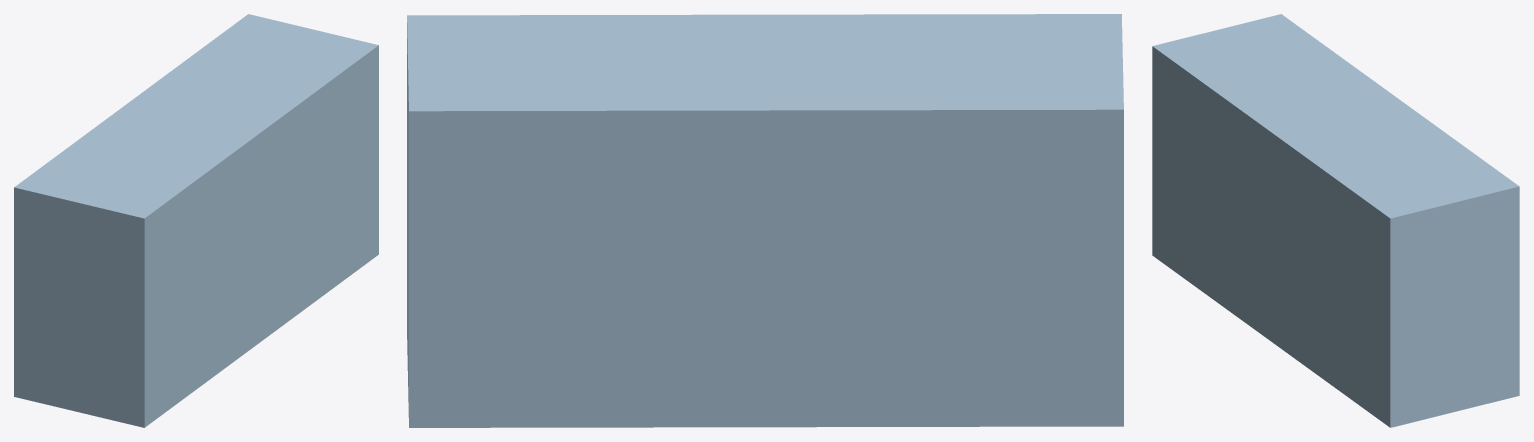
Rendered from osm_way_225265351.glb.
3 renders of one model, left to right at view 1: azimuth 30°, elevation 25°; view 2: azimuth 150°, elevation 25°; view 3: azimuth 270°, elevation 25°, orthographic. The views are drawn at different scales.
Parts seen in each view (by area): view 1: osm_way_225265351; view 2: osm_way_225265351; view 3: osm_way_225265351.
Boxes of the visible parts, x1=… form: osm_way_225265351: x1=14, y1=14, x2=378, y2=427; osm_way_225265351: x1=407, y1=14, x2=1123, y2=427; osm_way_225265351: x1=1152, y1=14, x2=1519, y2=427.
Bounding box in the file's own units: 40.25 × 19.2 × 30.52.
